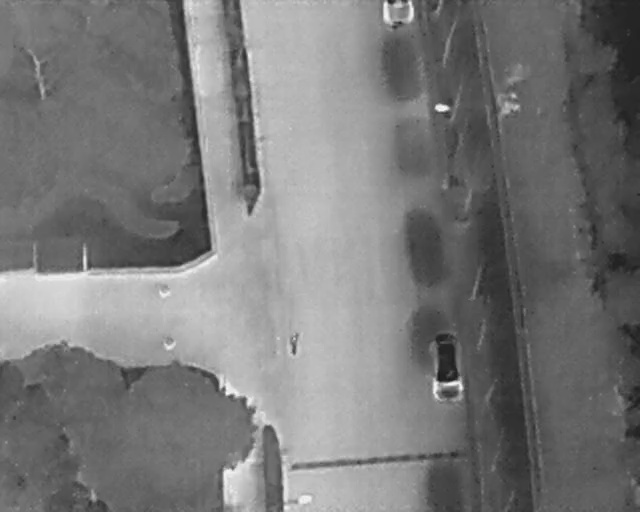Car: (429, 331, 466, 403), (383, 0, 414, 28)
Person: (289, 330, 300, 354)
